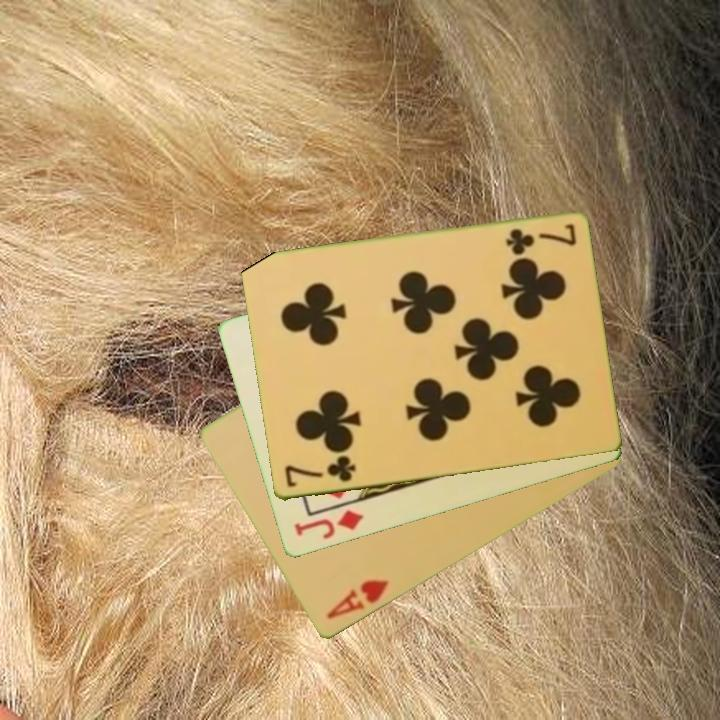7c: (281, 453, 359, 491), (502, 220, 579, 255)
Ah: (323, 576, 392, 623)
Jd: (291, 507, 366, 543)
